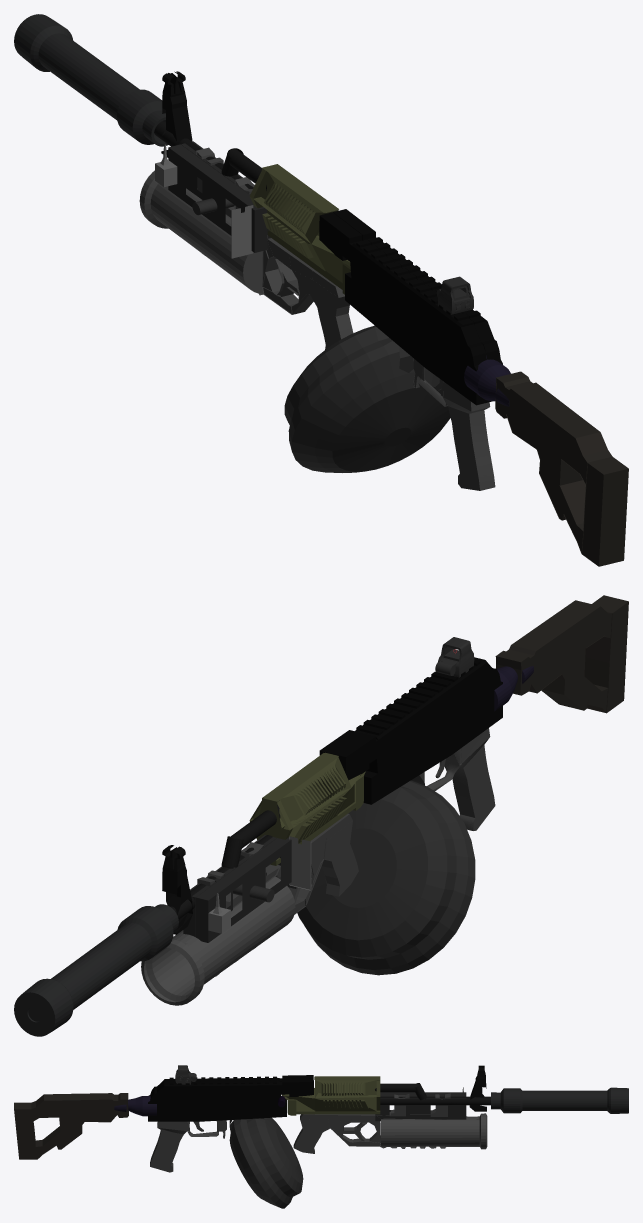
File: ak74-drum.glb
3 renders of one model, top to bottom at view 1: azimuth 30°, elevation 25°; view 2: azimuth 150°, elevation 25°; view 3: azimuth 270°, elevation 25°, orthographic. The views are drawn at different scales.
Parts seen in each view (by area): view 1: 11_AKDrumMag, 5_ReceiverCover, 4_Stock, 12_AKSupressor, 7_HandguardFront, 2_GL, 2_tube, 2_AimSightsGL, 1_handguard, 1AimFront, 9_FrontSight, 8_Berrel (+2 smaller); view 2: 11_AKDrumMag, 5_ReceiverCover, 4_Stock, 12_AKSupressor, 2_tube, 7_HandguardFront, 2_AimSightsGL, 2_GL, 1_handguard, 8_Berrel, 9_FrontSight, 1AimFront (+2 smaller); view 3: 5_ReceiverCover, 11_AKDrumMag, 4_Stock, 7_HandguardFront, 2_tube, 12_AKSupressor, 2_GL, 1_handguard, 2_AimSightsGL, 8_Berrel, 6_StockTube, 9_FrontSight (+1 smaller).
Boxes of the visible parts, <box> form: 11_AKDrumMag: <box>284,325,450,472</box>; 5_ReceiverCover: <box>319,209,502,405</box>; 4_Stock: <box>495,371,628,566</box>; 12_AKSupressor: <box>14,14,168,146</box>; 7_HandguardFront: <box>249,164,350,294</box>; 2_GL: <box>196,147,353,349</box>; 2_tube: <box>139,170,281,293</box>; 2_AimSightsGL: <box>168,141,270,252</box>; 1_handguard: <box>413,358,495,490</box>; 1AimFront: <box>155,144,253,258</box>; 9_FrontSight: <box>161,71,192,157</box>; 8_Berrel: <box>154,121,266,190</box>; 11_AKDrumMag: <box>297,775,475,975</box>; 5_ReceiverCover: <box>319,657,502,804</box>; 4_Stock: <box>495,595,628,713</box>; 12_AKSupressor: <box>14,904,178,1036</box>; 2_tube: <box>141,876,295,1005</box>; 7_HandguardFront: <box>249,752,365,865</box>; 2_AimSightsGL: <box>183,835,293,942</box>; 2_GL: <box>175,813,358,996</box>; 1_handguard: <box>419,728,495,830</box>; 8_Berrel: <box>170,804,280,919</box>; 9_FrontSight: <box>162,845,192,934</box>; 1AimFront: <box>208,836,311,933</box>; 5_ReceiverCover: <box>148,1075,313,1121</box>; 11_AKDrumMag: <box>229,1117,303,1208</box>; 4_Stock: <box>14,1093,128,1159</box>; 7_HandguardFront: <box>282,1076,380,1115</box>; 2_tube: <box>381,1113,487,1149</box>; 12_AKSupressor: <box>491,1087,628,1113</box>; 2_GL: <box>293,1093,479,1153</box>; 1_handguard: <box>150,1120,226,1172</box>; 2_AimSightsGL: <box>375,1092,466,1121</box>; 8_Berrel: <box>375,1083,490,1105</box>; 6_StockTube: <box>114,1096,156,1116</box>; 9_FrontSight: <box>469,1065,486,1111</box>.
Bounding box in the file's own units: 0.9994 × 1.44 × 5.85.
